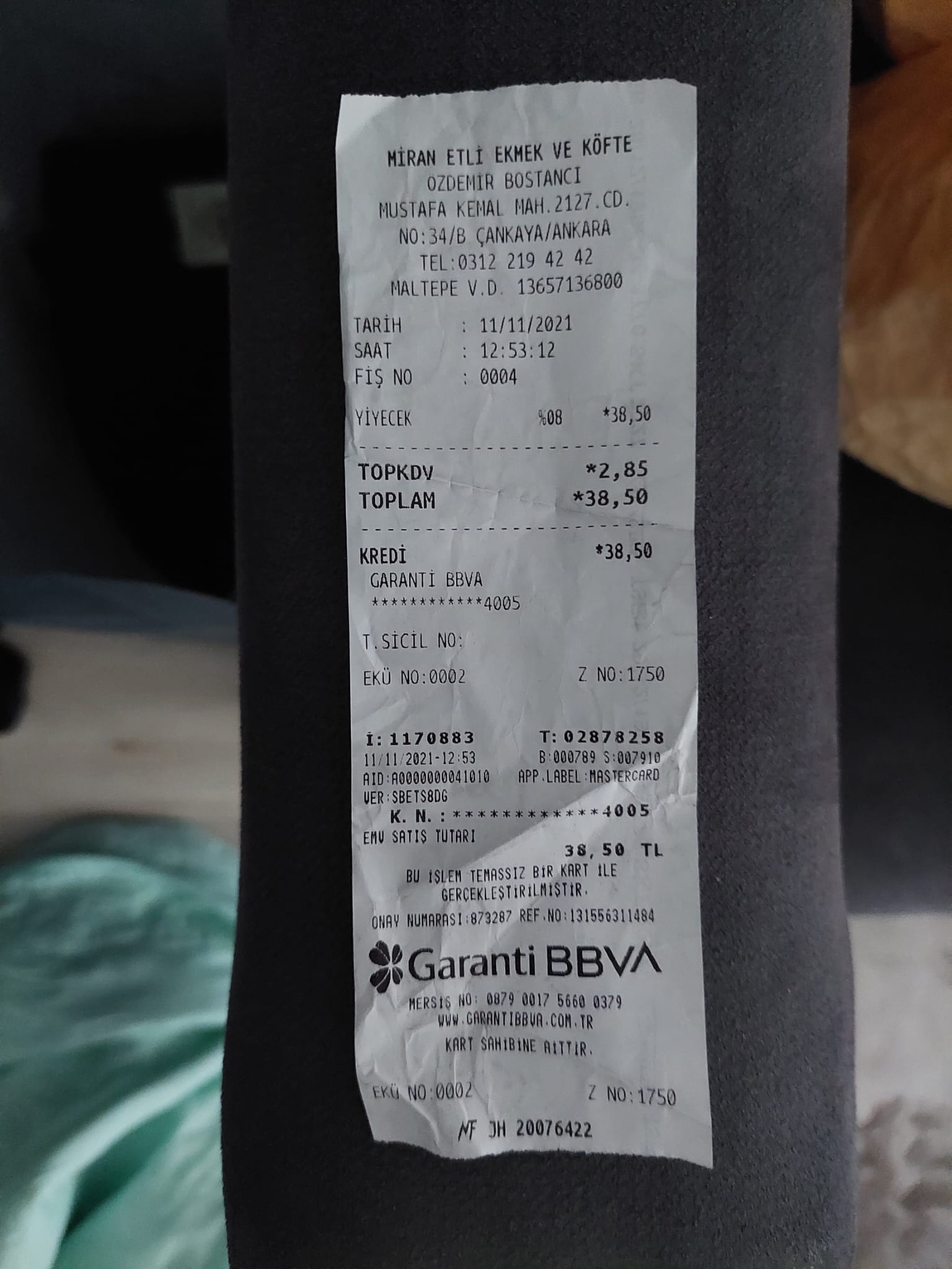date: (580, 481, 663, 516)
price: (475, 308, 575, 340)
workplace: (372, 132, 639, 249)
